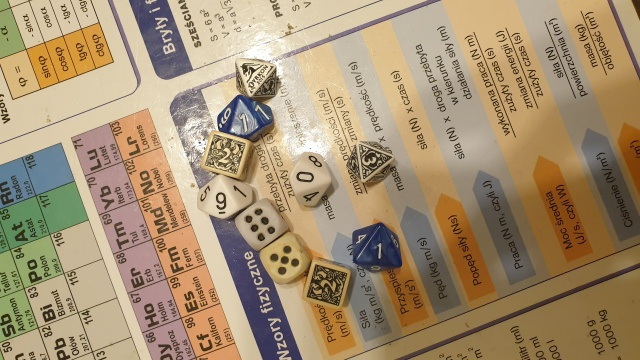d10-1: (350, 221, 406, 277), (213, 95, 279, 141)
d10-10: (287, 150, 336, 211)
d10-9: (196, 175, 254, 219)
d6-5: (258, 237, 313, 282)
d6-6: (236, 204, 284, 247)
d6p-2: (306, 260, 352, 308), (202, 134, 249, 176)
d8p-1: (231, 55, 282, 100)
d8p-3: (345, 138, 395, 185)
